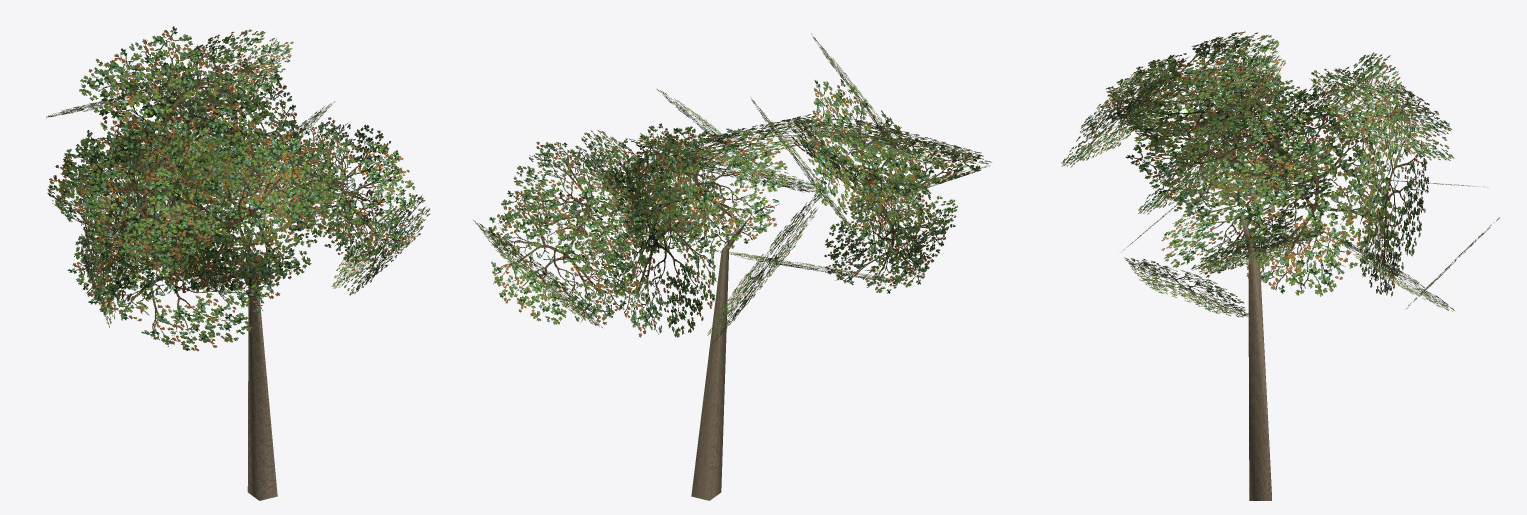
The model's file is decd_mapletreeleaves_a2_l3.fbx.
The picture shows the model from 3 angles, left to right: view 1: azimuth 30°, elevation 25°; view 2: azimuth 150°, elevation 25°; view 3: azimuth 270°, elevation 25°; orthographic projection. The views are drawn at different scales.
Parts seen in each view (by area): view 1: mesh_node; view 2: mesh_node; view 3: mesh_node.
Boxes of the visible parts, x1,y1,x2,y2 form: mesh_node: [46, 26, 429, 500]; mesh_node: [473, 33, 991, 500]; mesh_node: [1061, 31, 1499, 500].
Size of the model in its own units: 26.61 by 27.7 by 28.7.
Materials: 2 (2 with a texture image).
